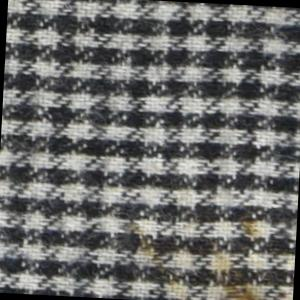Oil Stain: (117, 204, 298, 300)
